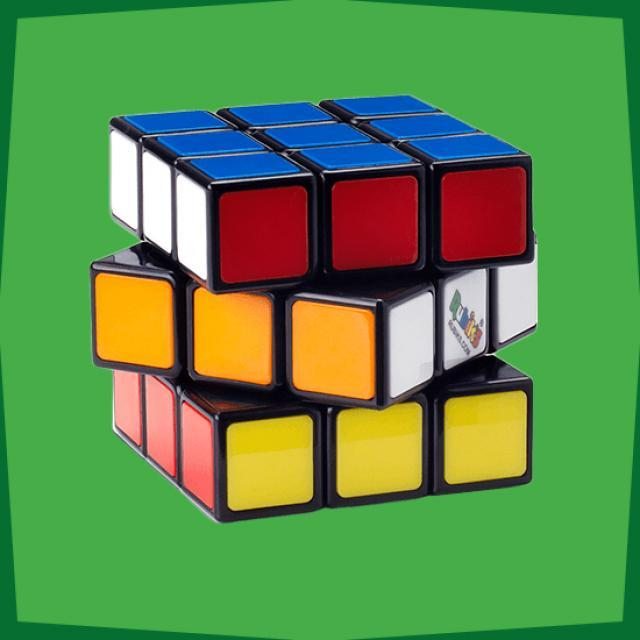Rub: (86, 87, 538, 526)
